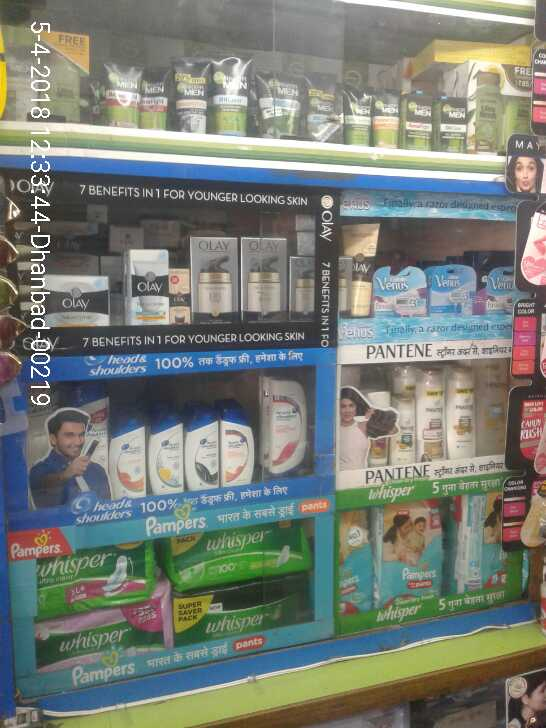venus: (374, 263, 428, 312), (429, 265, 475, 321), (488, 266, 516, 312)
